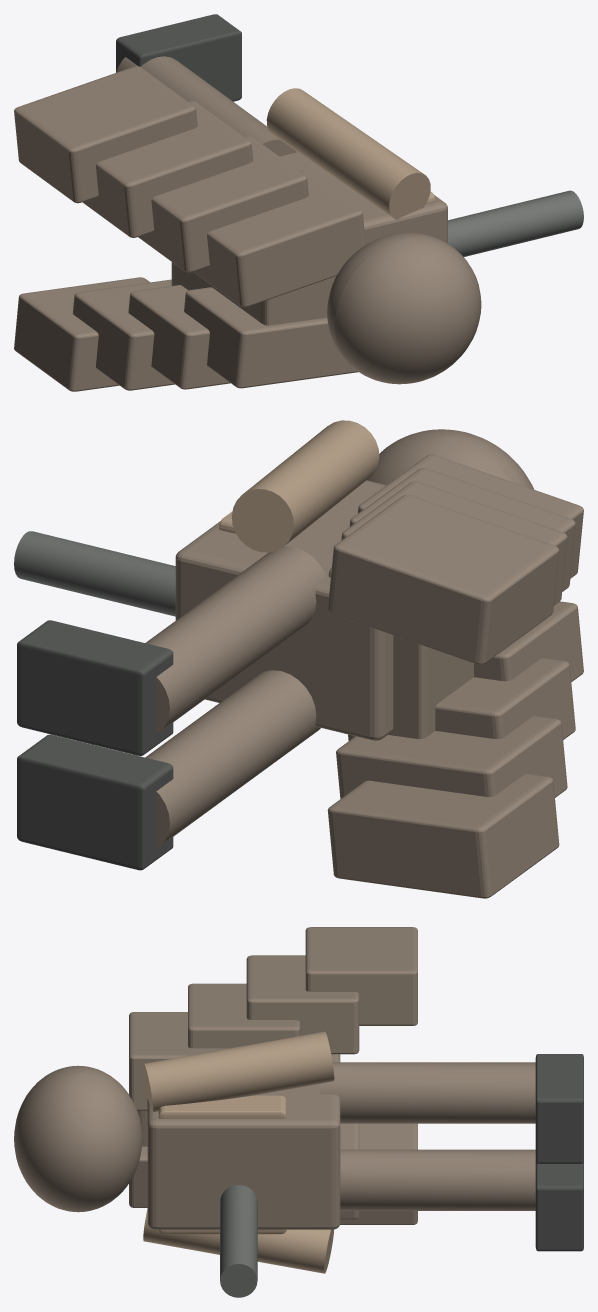
File: d-u07-dominion-infiltrator-lod1.glb
3 renders of one model, top to bottom at view 1: azimuth 30°, elevation 25°; view 2: azimuth 150°, elevation 25°; view 3: azimuth 270°, elevation 25°, orthographic. The views are drawn at different scales.
Parts seen in each view (by area): view 1: soldier_0_helmet, cloak_1_3, cloak_1_0, cloak_1_1, cloak_1_2, cloak_-1_0, soldier_0_arm_1, cloak_-1_3, soldier_0_boot_1, cloak_-1_2, cloak_-1_1, soldier_0_rifle (+3 smaller); view 2: cloak_1_3, cloak_-1_3, soldier_0_torso, soldier_0_boot_1, soldier_0_boot_-1, soldier_0_leg_1, soldier_0_leg_-1, cloak_-1_2, soldier_0_arm_1, soldier_0_rifle, cloak_-1_1, soldier_0_backpack (+5 smaller); view 3: soldier_0_torso, soldier_0_helmet, soldier_0_leg_1, soldier_0_leg_-1, soldier_0_arm_1, cloak_1_3, cloak_1_2, soldier_0_boot_1, cloak_1_1, soldier_0_boot_-1, soldier_0_arm_-1, soldier_0_rifle (+5 smaller).
Part boxes in pixels (<box>): soldier_0_helmet: <box>327,232,481,384</box>; cloak_1_3: <box>14,66,197,203</box>; cloak_1_0: <box>194,170,365,307</box>; cloak_1_1: <box>138,135,308,272</box>; cloak_1_2: <box>82,101,253,237</box>; cloak_-1_0: <box>184,287,358,388</box>; soldier_0_arm_1: <box>266,88,430,219</box>; cloak_-1_3: <box>14,277,149,391</box>; soldier_0_boot_1: <box>116,14,241,101</box>; cloak_-1_2: <box>72,279,174,390</box>; cloak_-1_1: <box>128,285,230,389</box>; soldier_0_rifle: <box>448,190,583,256</box>; cloak_1_3: <box>327,495,559,664</box>; cloak_-1_3: <box>327,773,559,898</box>; soldier_0_torso: <box>175,480,393,740</box>; soldier_0_boot_1: <box>17,620,173,755</box>; soldier_0_boot_-1: <box>17,734,173,870</box>; soldier_0_leg_1: <box>145,546,326,733</box>; soldier_0_leg_-1: <box>145,670,320,848</box>; cloak_-1_2: <box>336,716,567,798</box>; soldier_0_arm_1: <box>231,420,379,552</box>; soldier_0_rifle: <box>14,531,175,616</box>; cloak_-1_1: <box>348,658,575,740</box>; soldier_0_backpack: <box>328,567,473,739</box>; soldier_0_torso: <box>147,1054,340,1229</box>; soldier_0_helmet: <box>14,1065,142,1212</box>; soldier_0_leg_1: <box>320,1062,535,1123</box>; soldier_0_leg_-1: <box>340,1149,535,1210</box>; soldier_0_arm_1: <box>143,1031,334,1111</box>; cloak_1_3: <box>305,927,417,1025</box>; cloak_1_2: <box>246,955,359,1054</box>; soldier_0_boot_1: <box>535,1054,583,1163</box>; cloak_1_1: <box>188,983,300,1048</box>; soldier_0_boot_-1: <box>535,1160,583,1251</box>; soldier_0_arm_-1: <box>143,1208,334,1273</box>; soldier_0_rifle: <box>220,1185,257,1297</box>.
Size of what is drawn, in the model's own units: 1.91 by 1.05 by 2.13.
